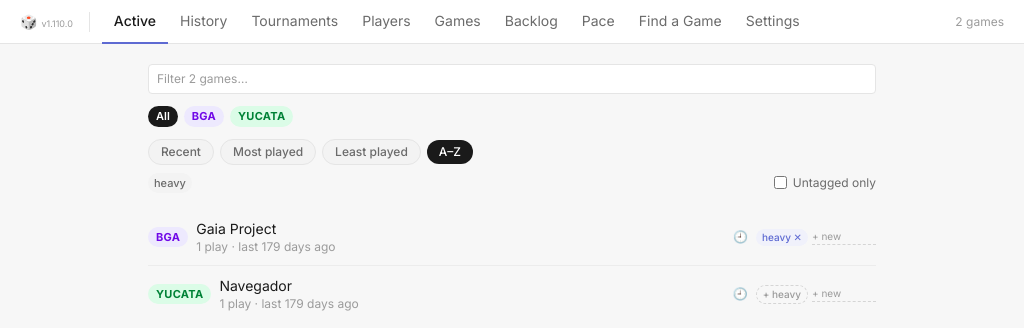
Scenario: GamesPage › filters to untagged titles only
Expected: the text "Gaia Project" is shown, x1=196 y1=220 x2=276 y2=237
Click the checkbox labelled "Untagged only" at (780, 183), box x1=774 y1=176 x2=787 y2=189
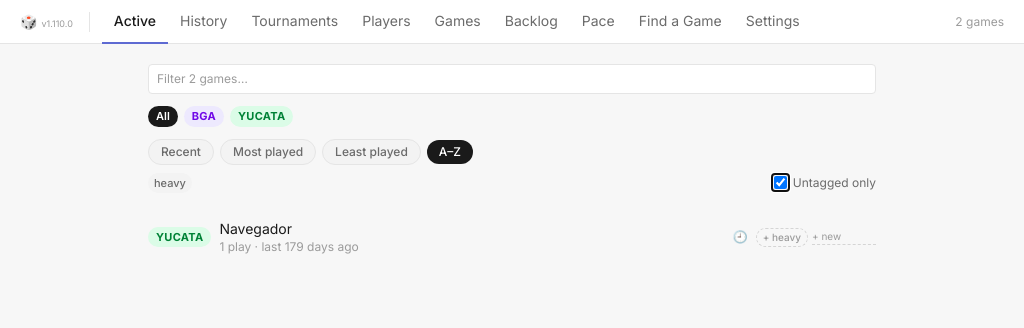
Expected: the text "Navegador" is shown, x1=219 y1=220 x2=292 y2=237
Result: the text "Gaia Project" is gone
